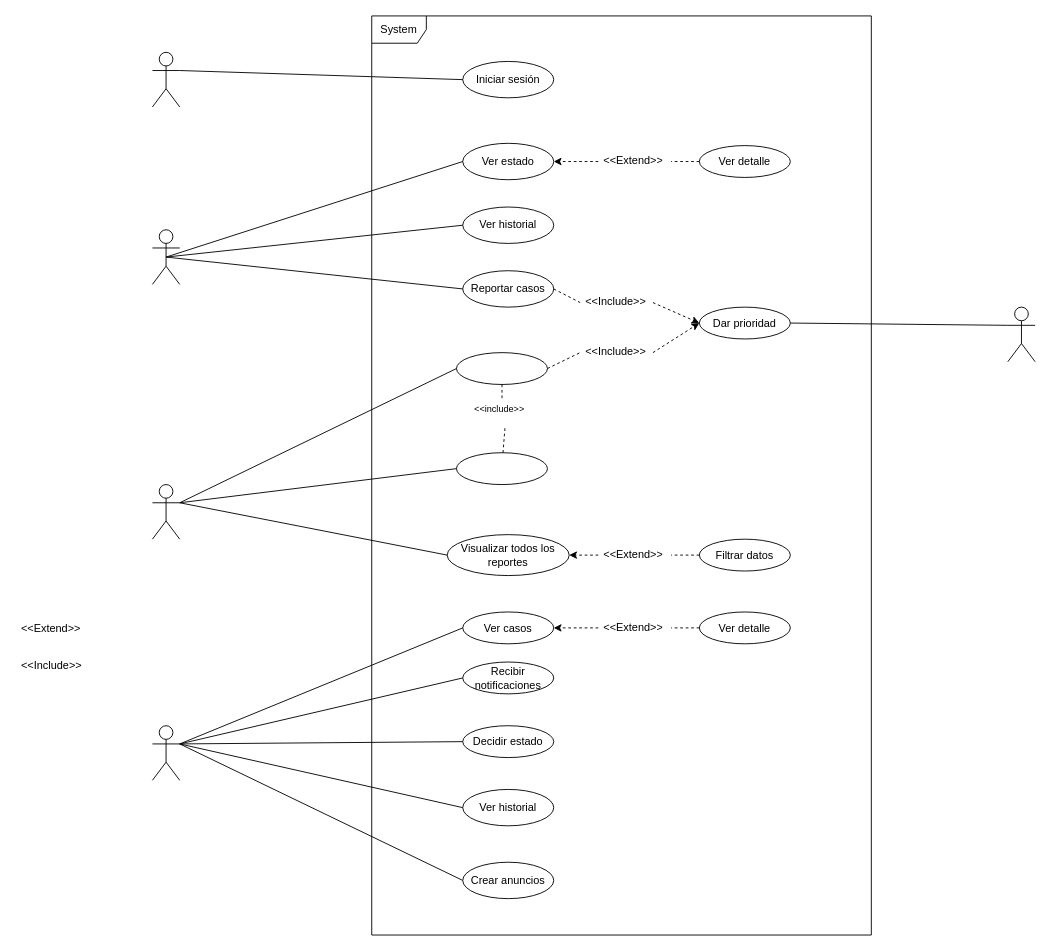
Some shapes in this 1057 by 951 pixel diagram are drawn without their labels. The box of each missing label's shape, as (x1, y1, x2, y2) in pixels:
Administrador: (152, 484, 180, 539)
Instructor: (152, 229, 180, 284)
Registrar usuario: (456, 352, 547, 384)
Sistema: (1007, 306, 1035, 362)
Soporte: (152, 725, 180, 780)
Usuario: (152, 51, 180, 107)
Visualizar usuario: (456, 452, 547, 485)
